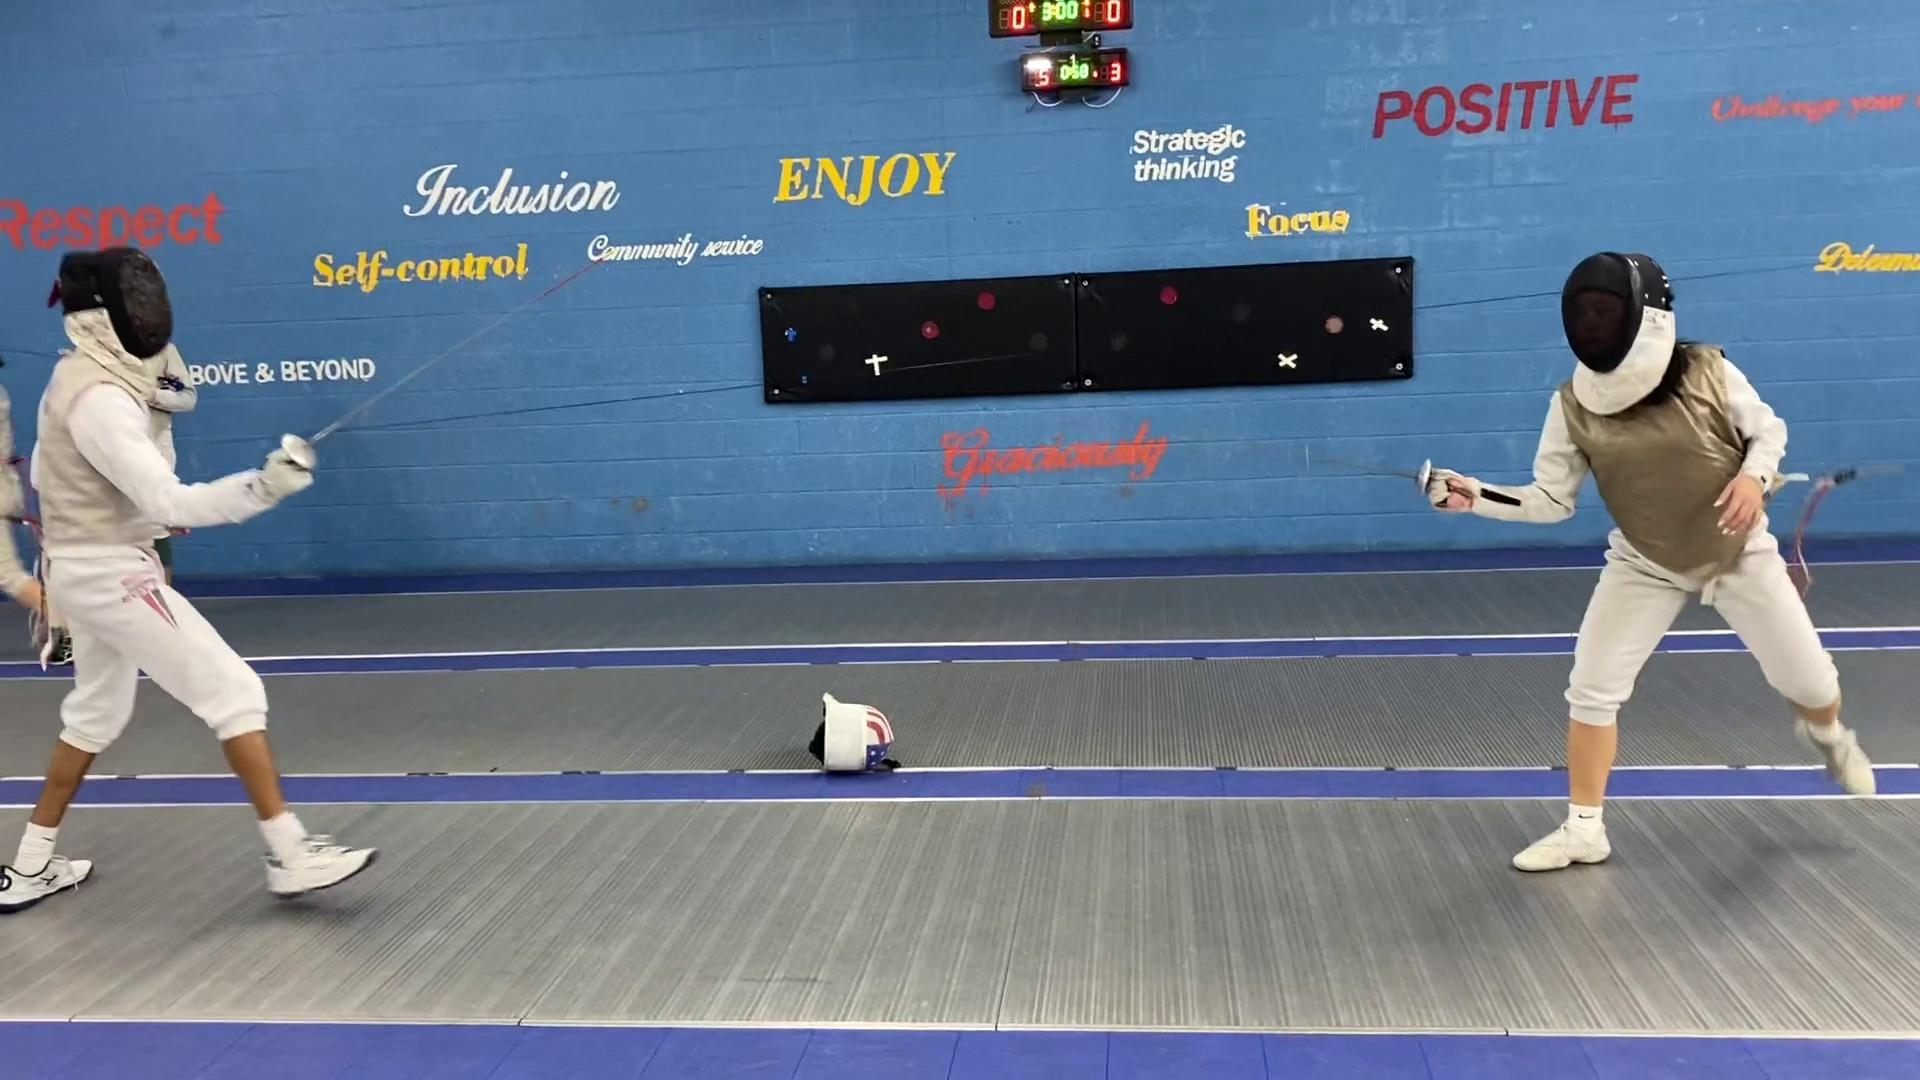blade-guard: (273, 429, 323, 475), (1408, 454, 1433, 502)
blade-tip: (531, 243, 622, 302)
fencing-blade: (269, 243, 622, 483), (1051, 413, 1481, 518)
